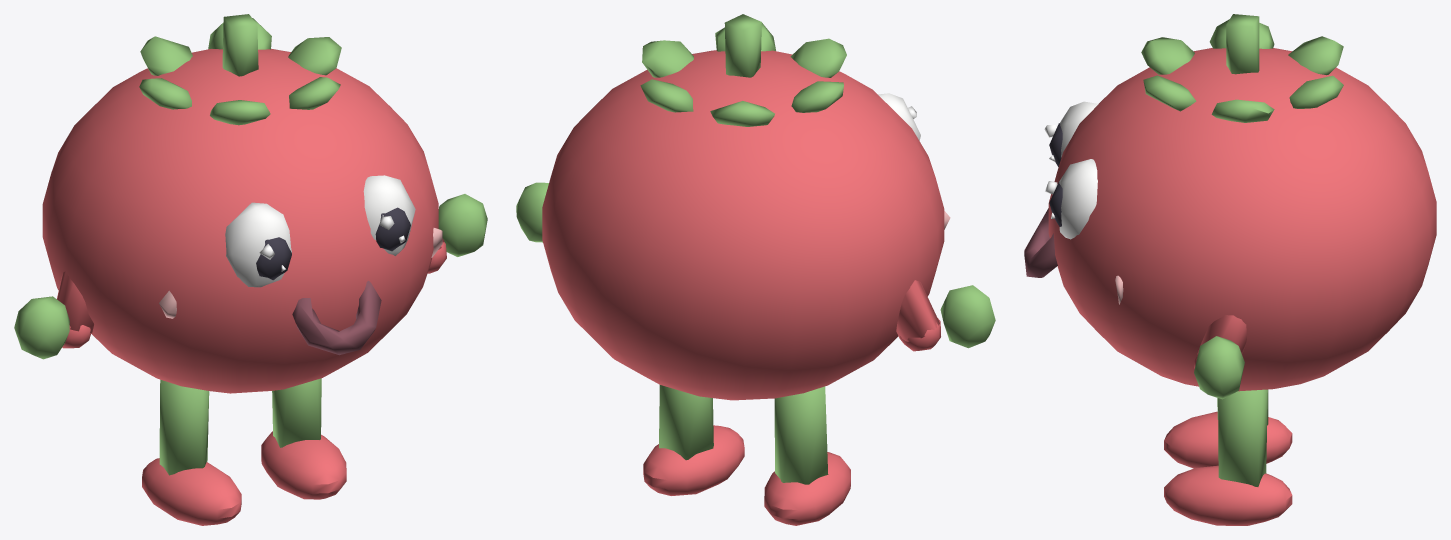
The model's file is Tomato.fbx.
The picture shows the model from 3 angles, left to right: view 1: azimuth 30°, elevation 25°; view 2: azimuth 150°, elevation 25°; view 3: azimuth 270°, elevation 25°; orthographic projection. The views are drawn at different scales.
Visible parts, largest first — view 1: EX_Tomato; view 2: EX_Tomato; view 3: EX_Tomato.
Boxes of the visible parts, x1=… form: EX_Tomato: x1=14, y1=14, x2=487, y2=525; EX_Tomato: x1=516, y1=14, x2=995, y2=525; EX_Tomato: x1=1024, y1=14, x2=1436, y2=525.
Size of the model in its own units: 234 by 227 by 179.
